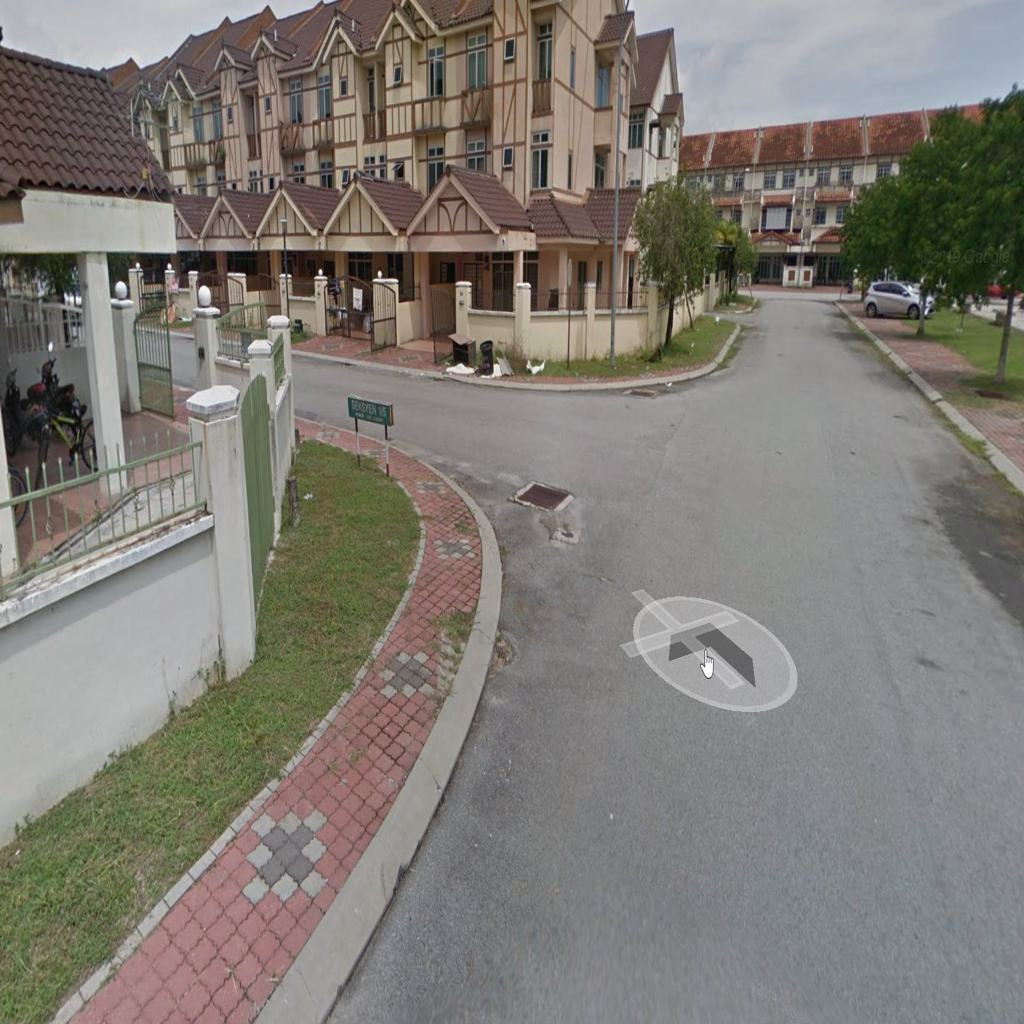Junction: (340, 345, 768, 695)
